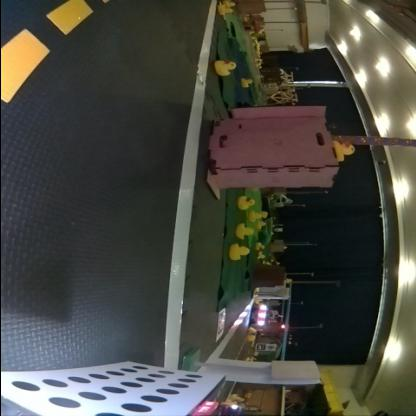Duckie: (230, 243, 250, 260), (336, 141, 354, 159), (215, 60, 235, 76), (237, 222, 254, 236), (238, 195, 254, 209), (218, 4, 232, 14), (250, 211, 262, 221), (222, 0, 235, 7), (243, 78, 252, 87), (256, 242, 264, 248), (250, 334, 256, 340), (259, 252, 265, 258), (248, 327, 255, 332)
Duckiebot: (250, 304, 271, 326)
